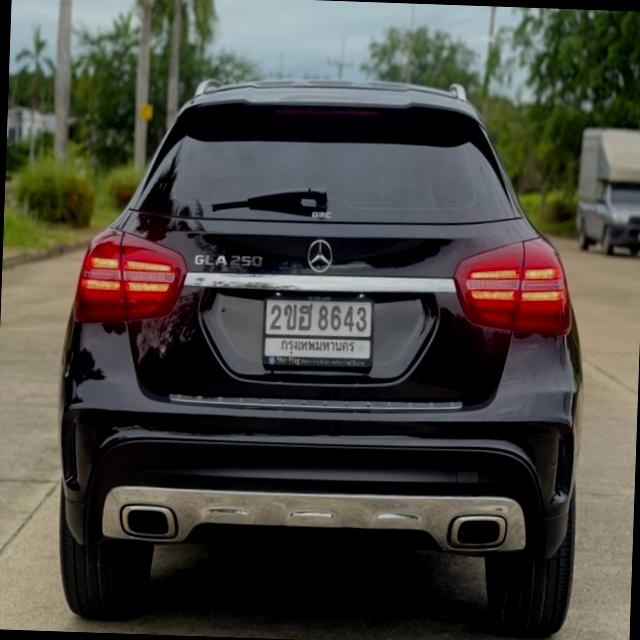license_plate: (262, 286, 376, 370)
